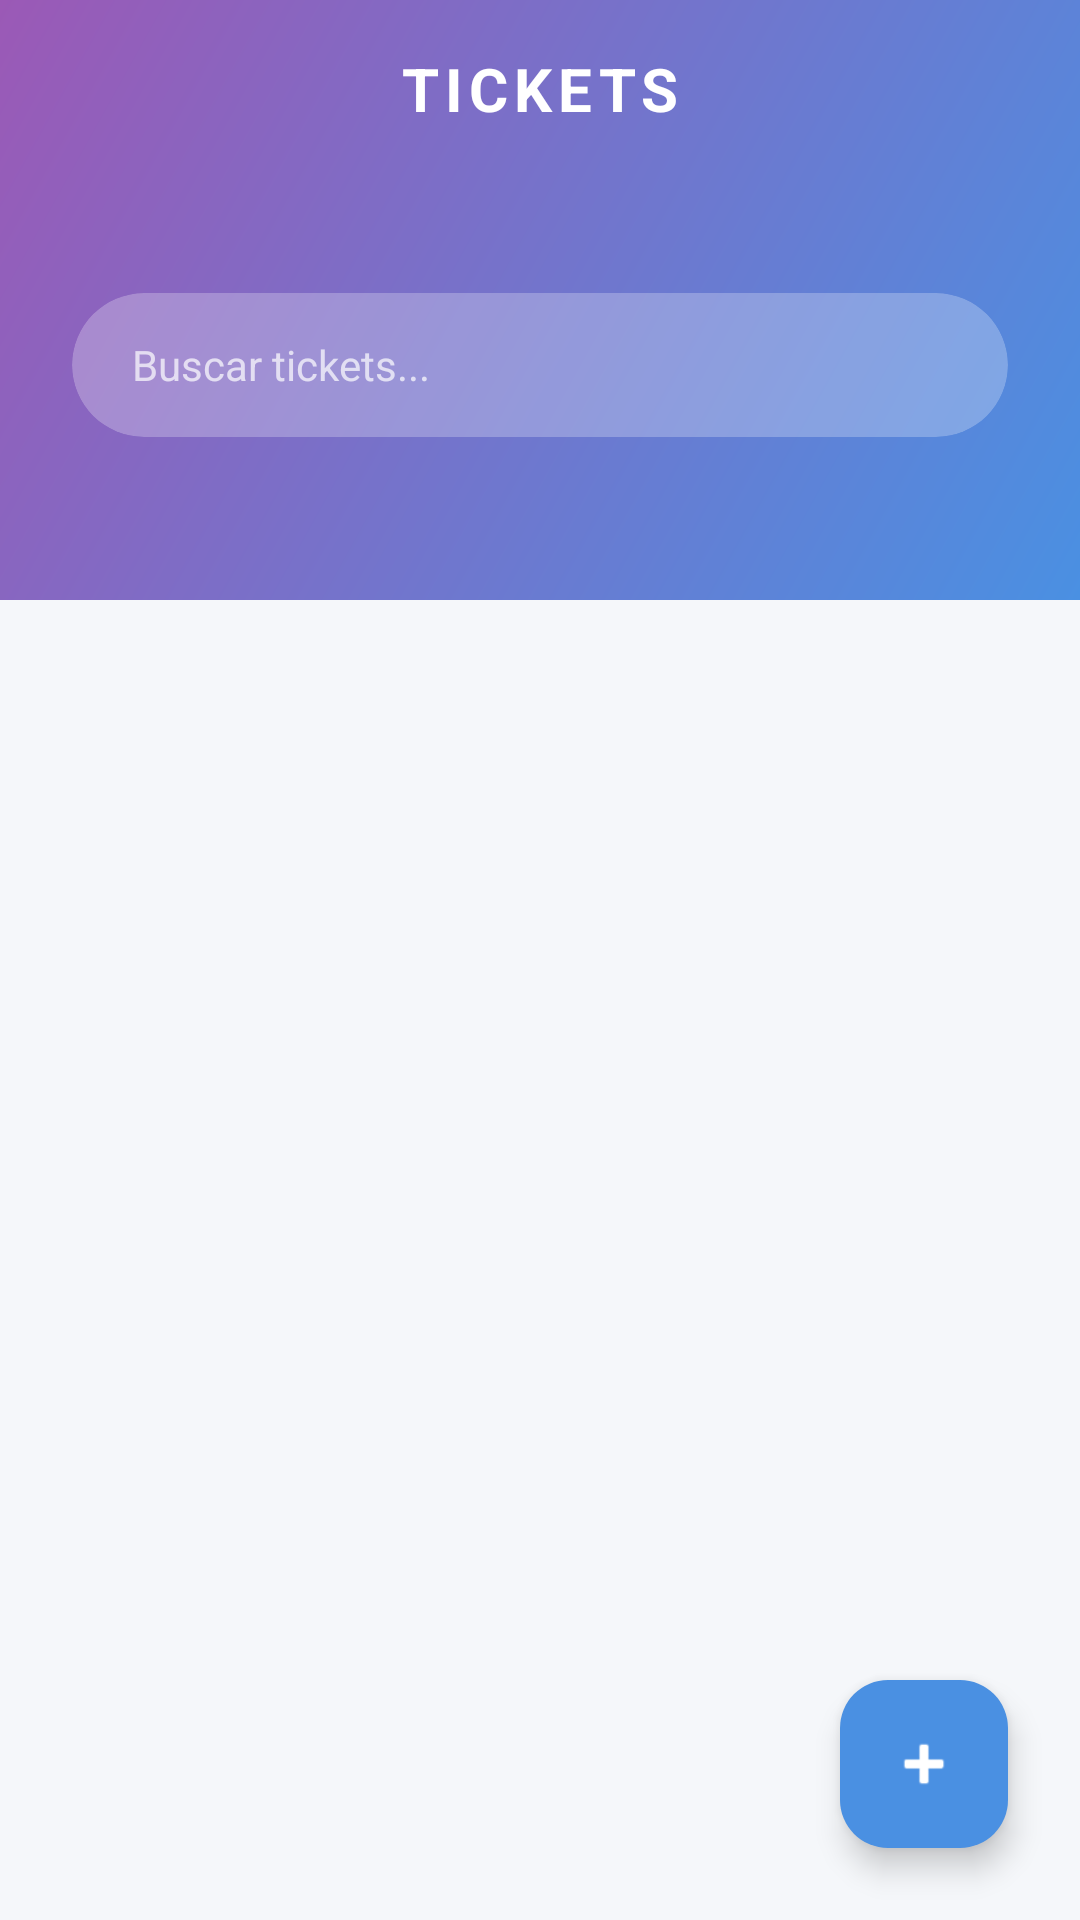

Where icons sit on this 1080px x 1920px app screen, as (x1, y1, x2, y2):
Crear ticket: (840, 1680, 1008, 1848)
